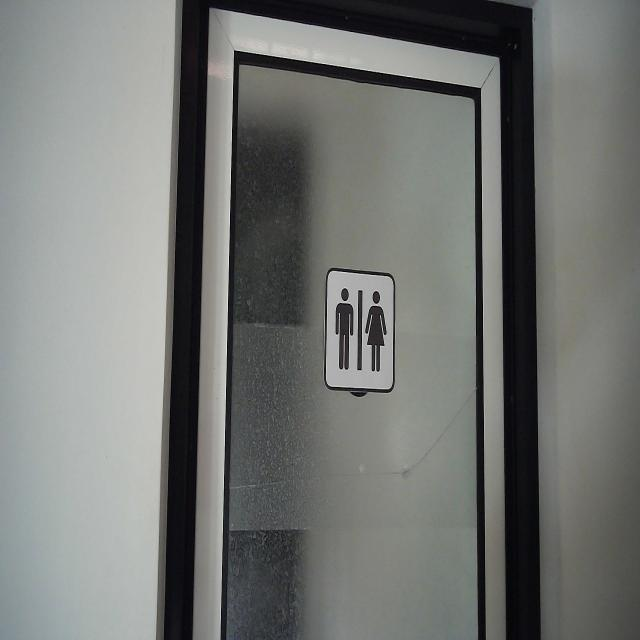restroom: (322, 264, 398, 394)
